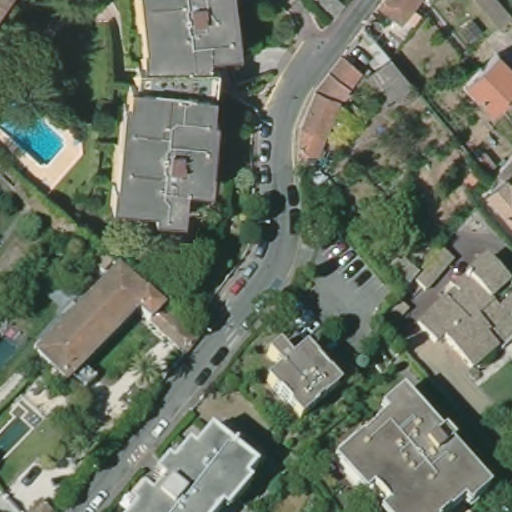pool: (2, 108, 68, 168)
